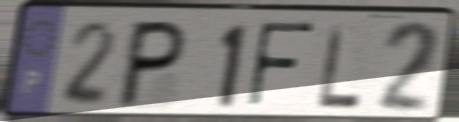1: (217, 20, 251, 111)
2: (375, 19, 443, 116), (59, 18, 119, 110)
F: (245, 19, 319, 113)
L: (316, 21, 363, 112)
P: (112, 18, 192, 112)
